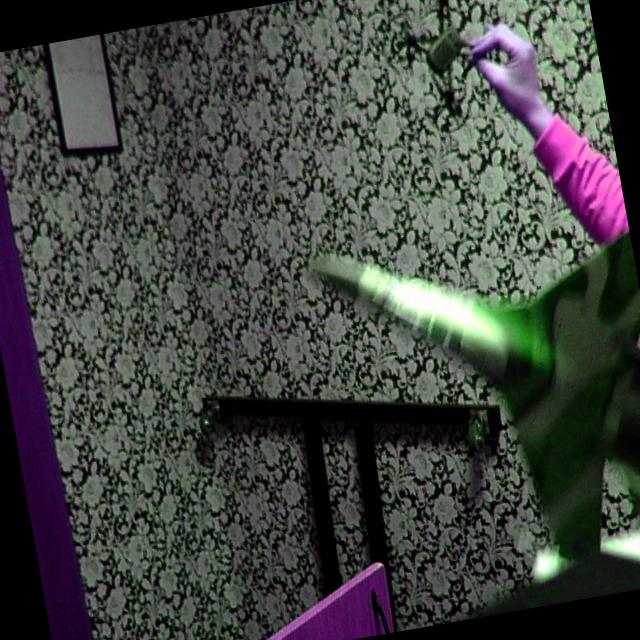drone: (371, 0, 551, 143)
